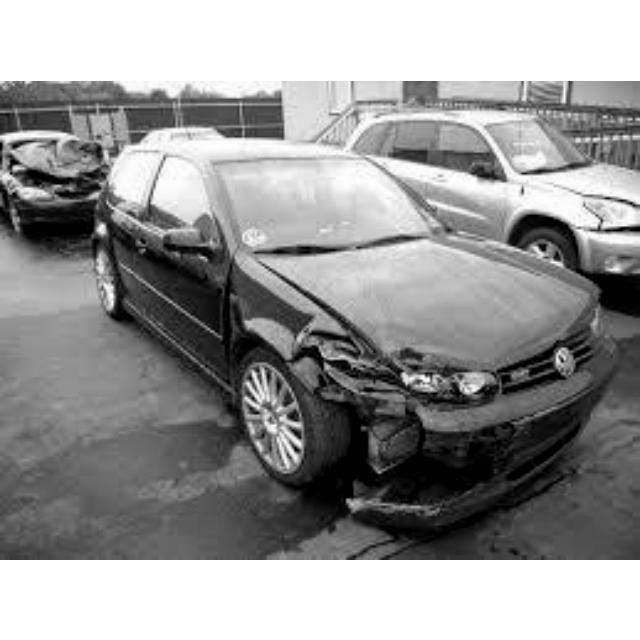Headlight-damage: (388, 351, 497, 411)
fender-dent: (232, 264, 381, 408)
front-bumper-dent: (388, 424, 518, 525)
